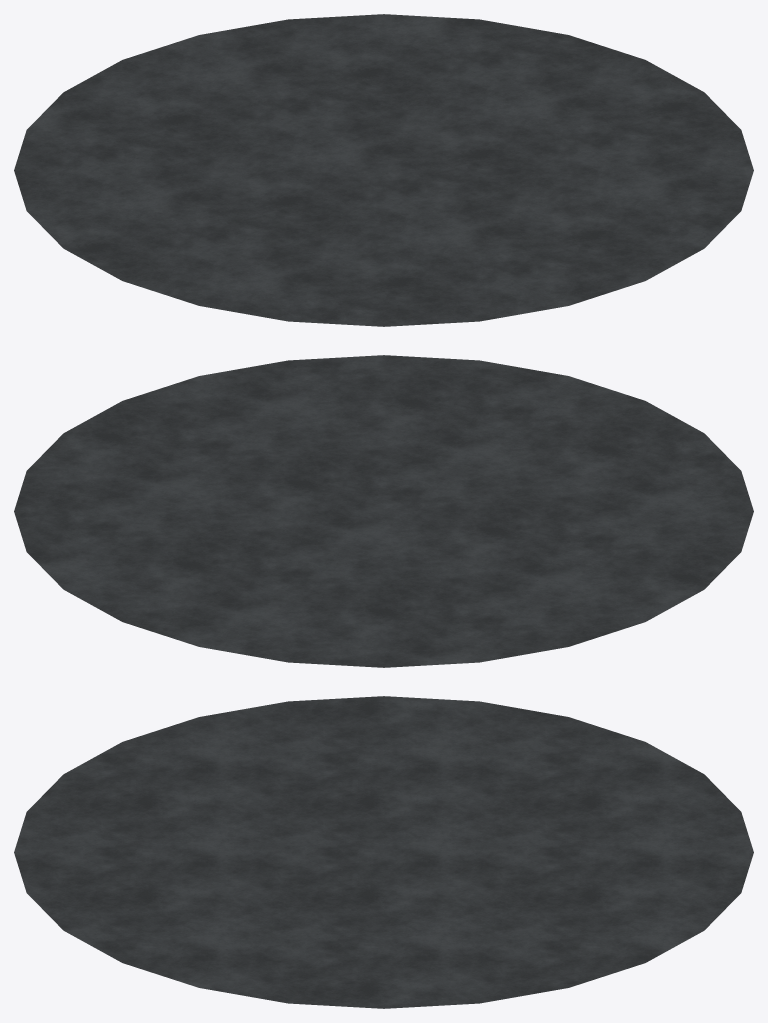
File: INT-J-008.obj
3 views of the same model, one above another, from view 1: azimuth 30°, elevation 25°; view 2: azimuth 150°, elevation 25°; view 3: azimuth 270°, elevation 25° (orthographic).
Visible parts, largest first — view 1: INT-J-008; view 2: INT-J-008; view 3: INT-J-008.
Part boxes in pixels (x1,y1,x2,y2): INT-J-008: (14, 14, 753, 326); INT-J-008: (14, 355, 753, 667); INT-J-008: (14, 696, 753, 1008).
Bounding box in the file's own units: 10 × 0 × 10.
Materials: 1 (1 with a texture image).
